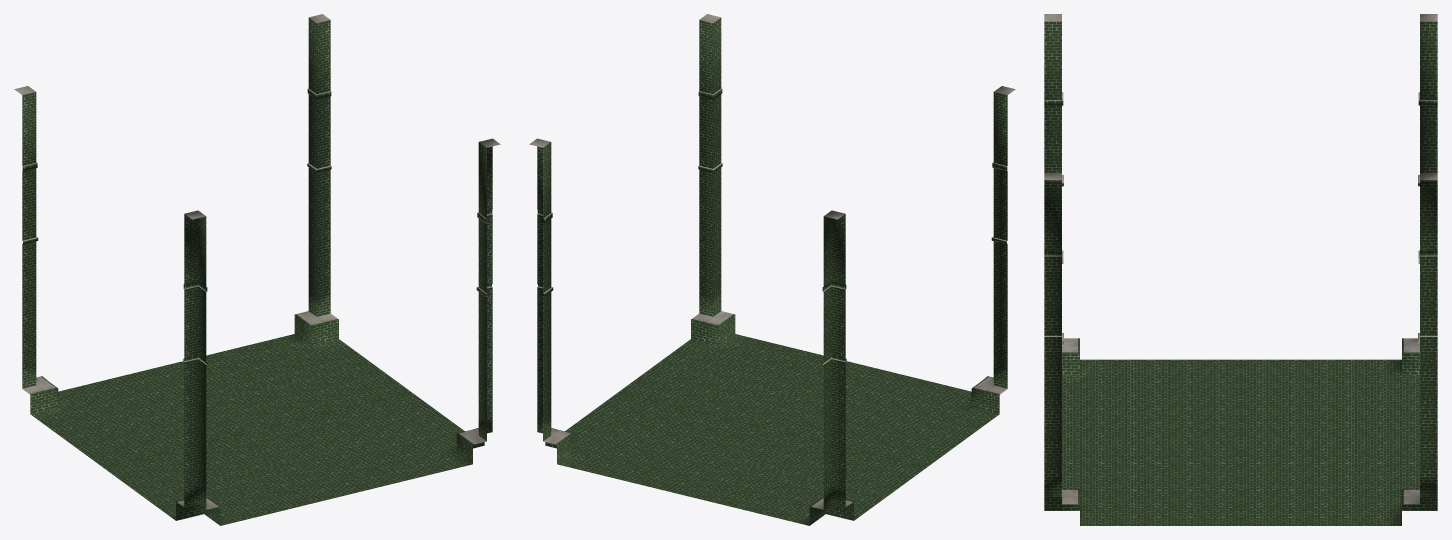
Rendered from SewerModule_BigOpenArea_1.fbx.
3 renders of one model, left to right at view 1: azimuth 30°, elevation 25°; view 2: azimuth 150°, elevation 25°; view 3: azimuth 270°, elevation 25°, orthographic. The views are drawn at different scales.
Parts seen in each view (by area): view 1: Big Split.012; view 2: Big Split.012; view 3: Big Split.012.
Part boxes in pixels (x1=…): Big Split.012: x1=14, y1=14, x2=500, y2=525; Big Split.012: x1=529, y1=14, x2=1015, y2=525; Big Split.012: x1=1044, y1=14, x2=1437, y2=525.
Bounding box in the file's own units: 2200 × 2133 × 2200.
